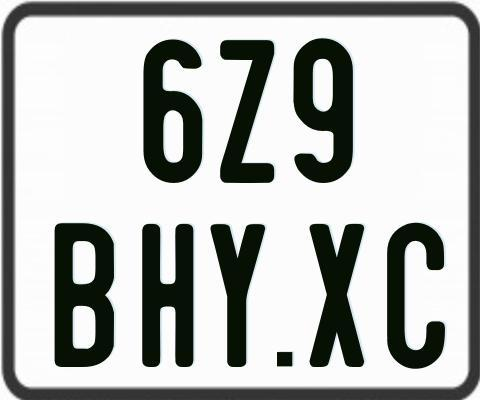6: (141, 36, 205, 182)
9: (290, 35, 354, 185)
B: (54, 220, 113, 366)
C: (385, 221, 443, 368)
H: (141, 221, 197, 369)
X: (309, 221, 369, 370)
Y: (211, 221, 269, 370)
Z: (217, 40, 276, 189)
